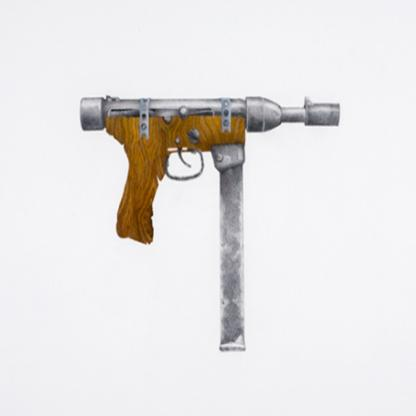Handgun: (79, 94, 340, 351)
